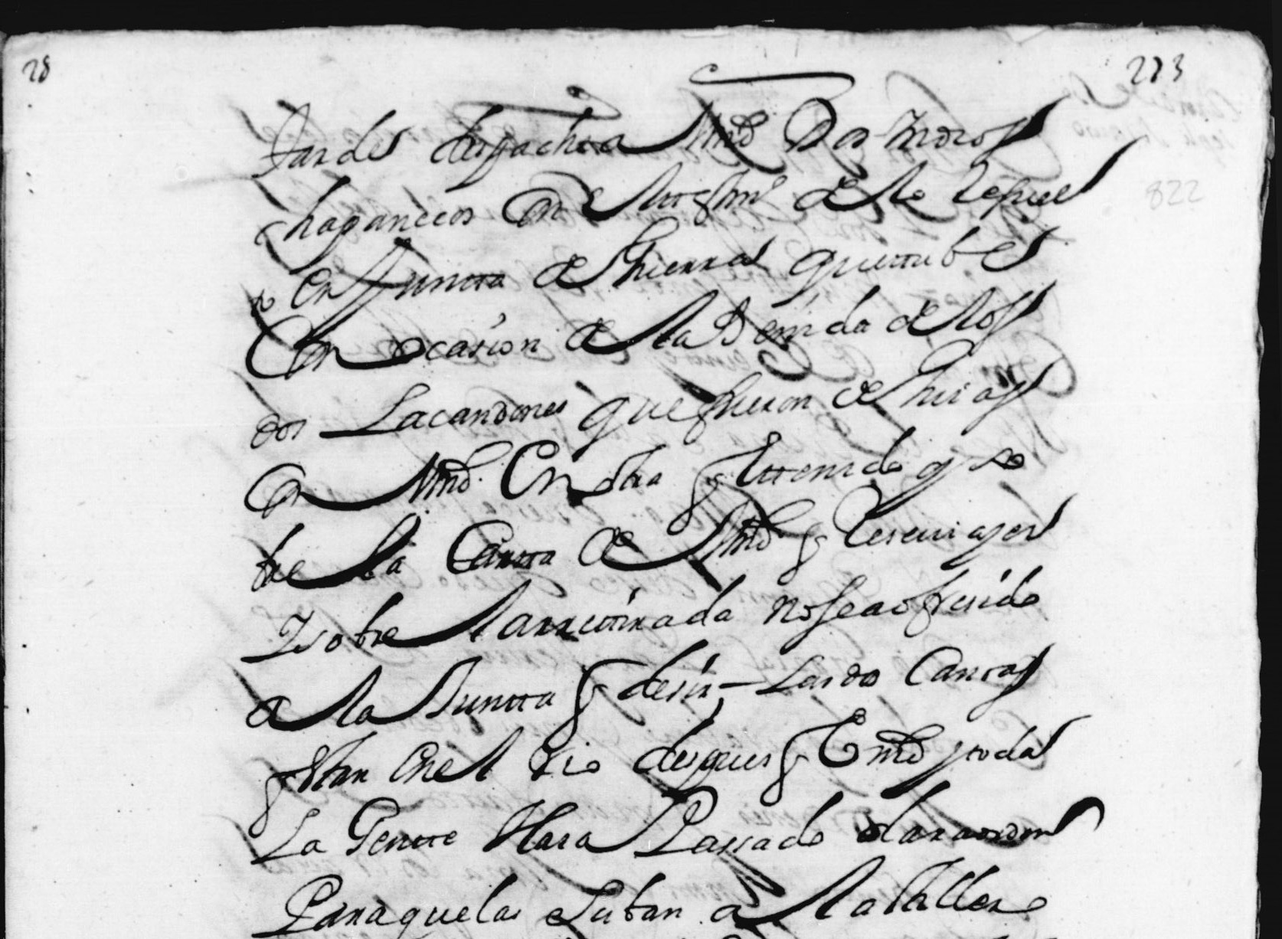lacandon: (319, 383, 567, 438)
